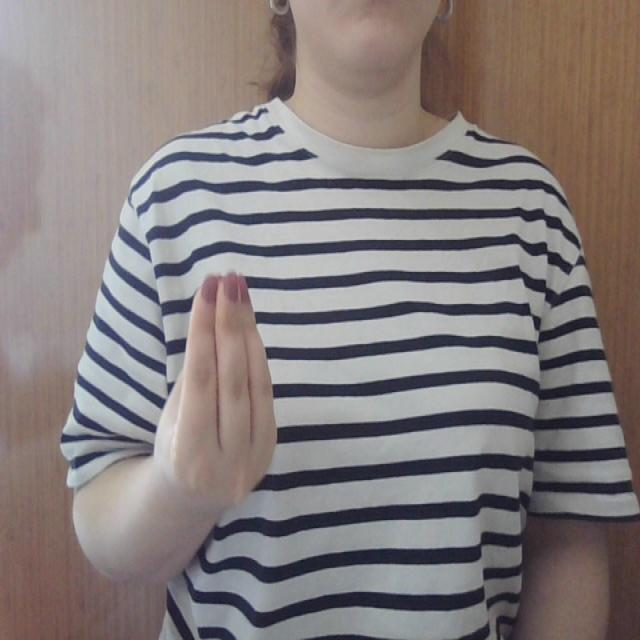iyi: (150, 260, 282, 500)
